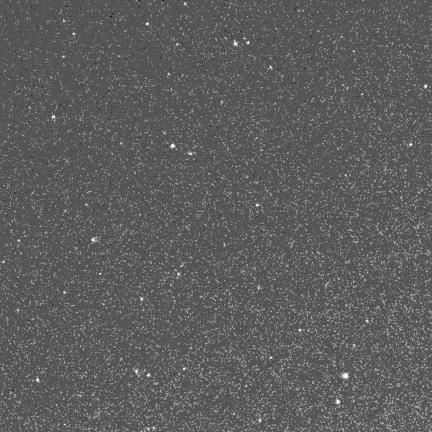blob: (343, 373, 349, 380), (233, 40, 238, 46), (92, 237, 97, 242), (188, 152, 194, 156), (36, 378, 40, 383), (177, 272, 181, 277), (409, 143, 414, 147), (147, 373, 151, 377), (63, 291, 67, 295), (336, 400, 340, 404), (171, 144, 175, 148), (246, 41, 250, 45), (299, 329, 303, 333), (183, 367, 187, 371), (424, 84, 427, 89), (73, 33, 77, 36), (366, 319, 369, 323), (135, 370, 138, 374), (353, 344, 356, 348), (270, 357, 274, 360), (258, 419, 261, 423), (52, 115, 55, 118), (18, 240, 21, 243), (256, 204, 259, 207), (99, 273, 102, 276), (146, 22, 149, 25), (176, 43, 179, 46), (141, 297, 143, 301)
